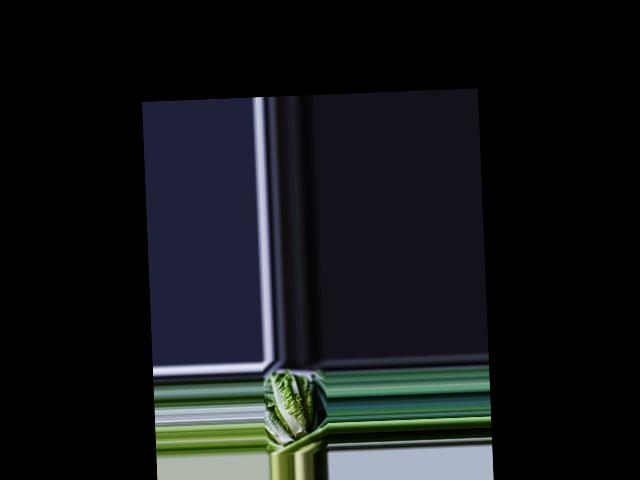lettuce: (269, 369, 315, 439)
